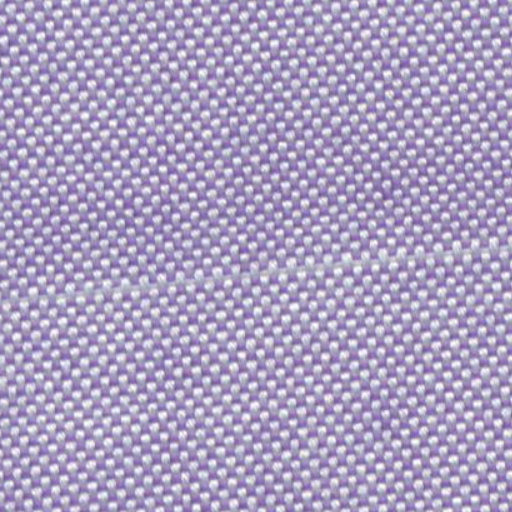TuoSha: (12, 226, 499, 336)
